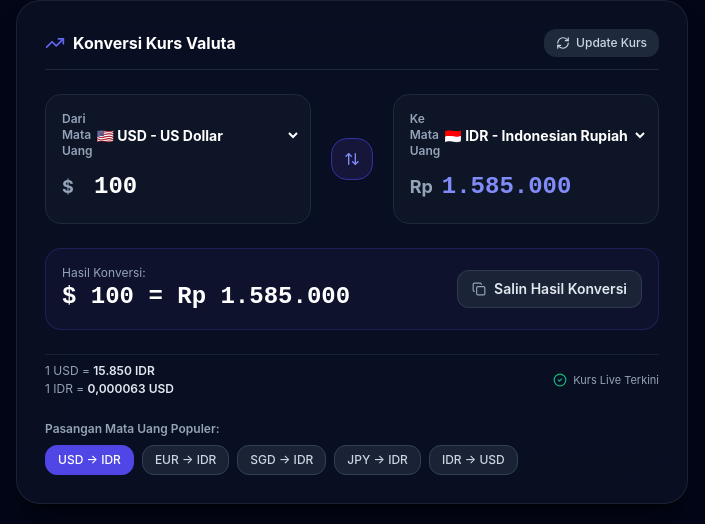
Test: FinancialCalculator Component Suite › CurrencyConverter › swaps currencies when swap button is clicked
Click the button titled "Tukar mata uang".
click(352, 159)  # box top-left (331, 138), bottom-right (373, 180)
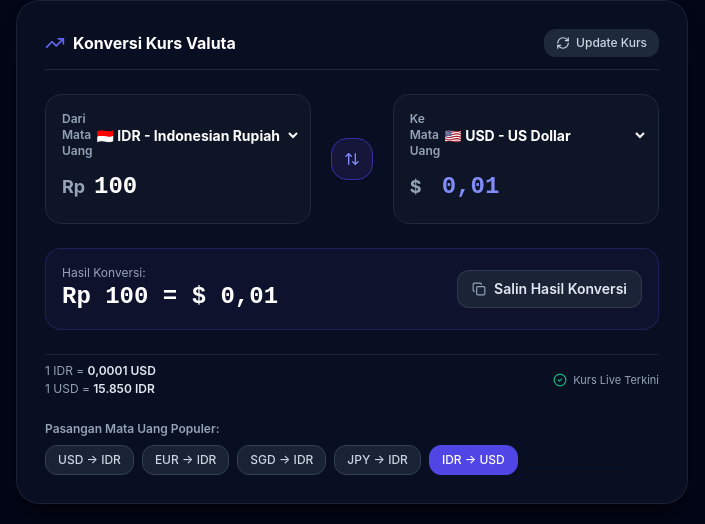
Expected: the dropdown showing "IDR" below "Dari Mata Uang" is shown, top-left (93, 126), bottom-right (301, 144)
